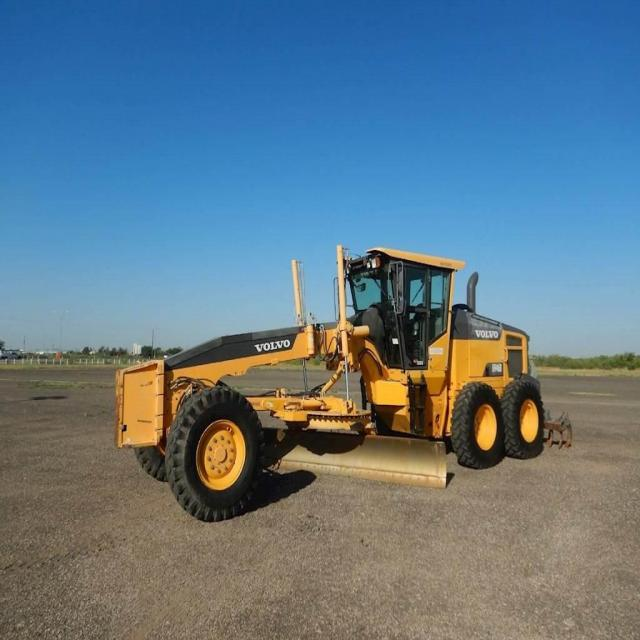Grader: (108, 242, 556, 522)
